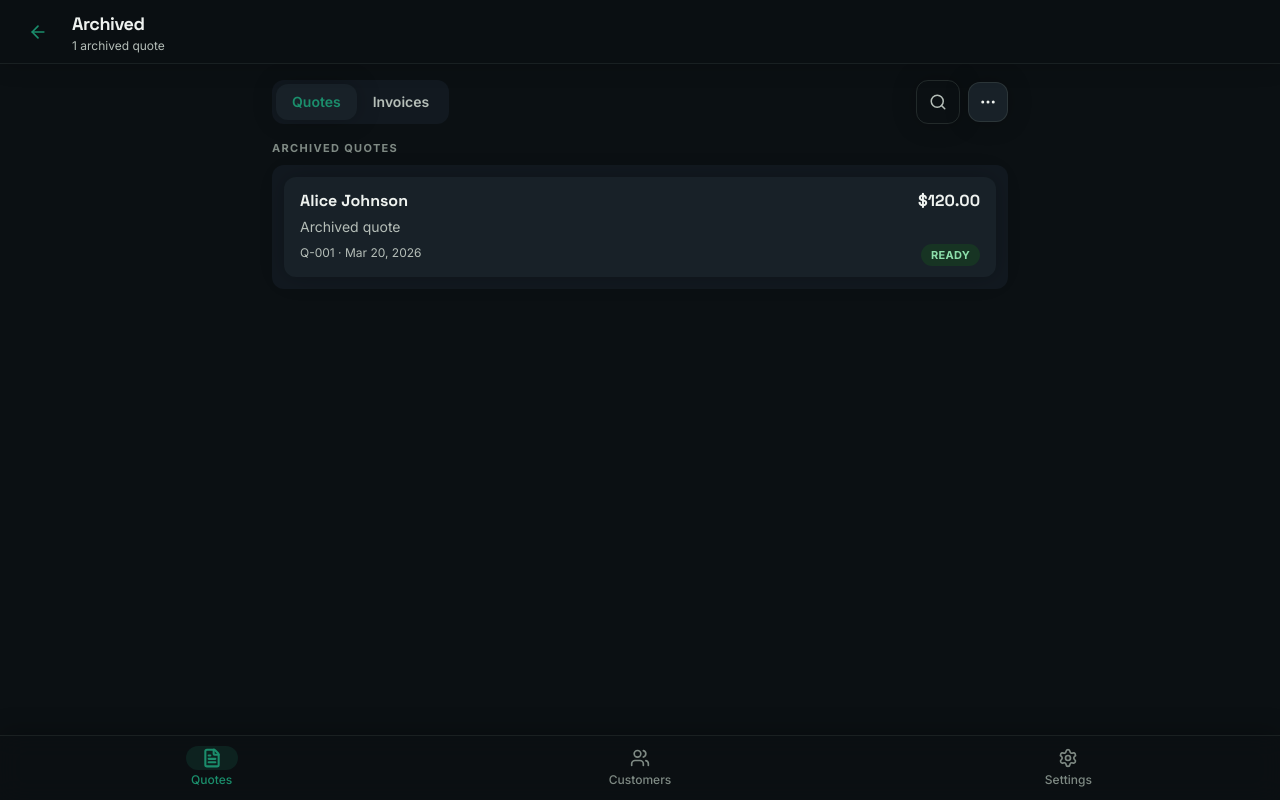
ArchiveList › toggles to archived invoices tab and fetches invoices
Check: the button "Alice Johnson" is shown, box 284,176 -> 996,276
Click the button "Invoices": click(401, 102) 357,84 -> 445,120
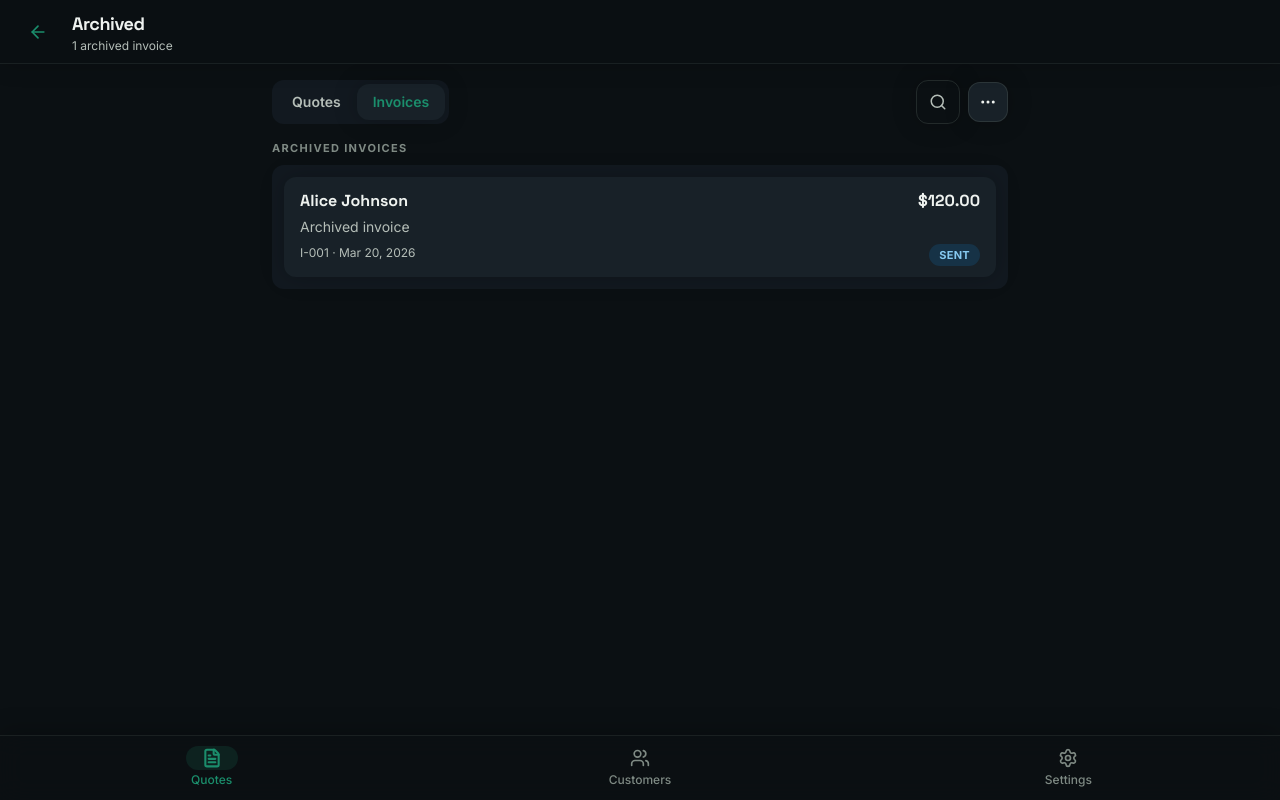
Check: the button "I-001" is shown, box 284,176 -> 996,276
